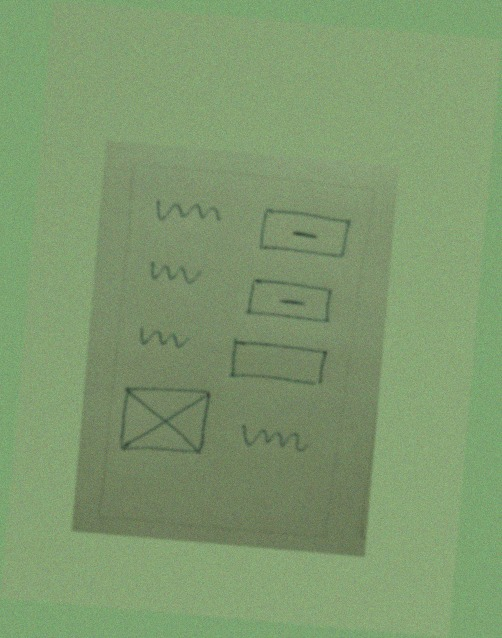button: (255, 202, 354, 265), (240, 268, 338, 331)
image: (113, 381, 213, 462)
text: (139, 251, 217, 293), (127, 315, 206, 356), (149, 191, 227, 232), (234, 418, 312, 459)
text_input: (226, 332, 331, 390)
